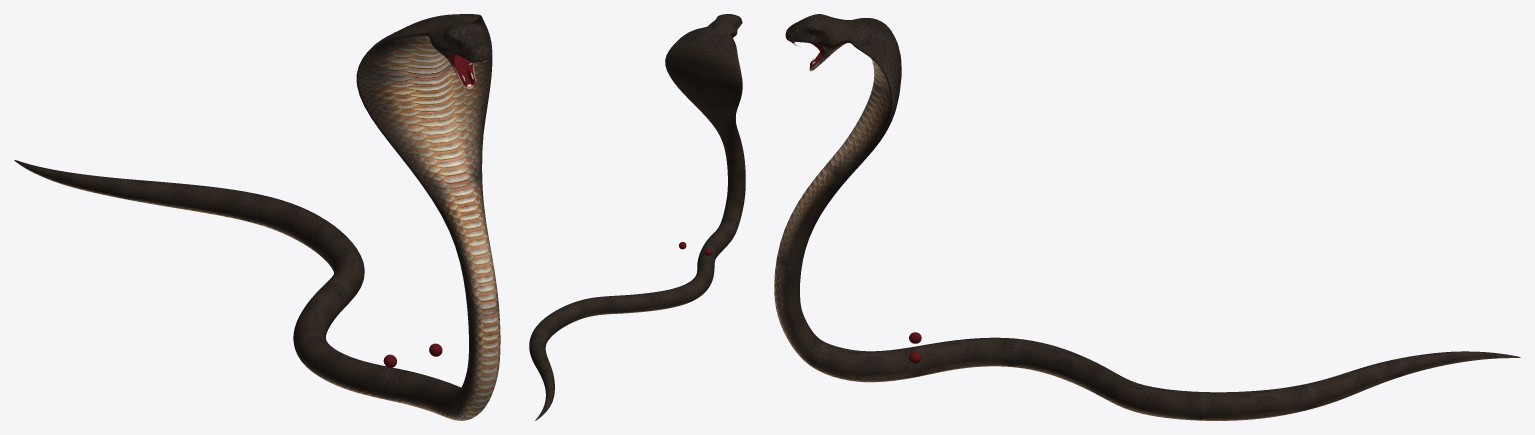
File: Snake.obj
3 views of the same model, side by side, from view 1: azimuth 30°, elevation 25°; view 2: azimuth 150°, elevation 25°; view 3: azimuth 270°, elevation 25° (orthographic). The views are drawn at different scales.
Size of the model in its own units: 2.97 by 7.1 by 13.15.
Materials: 4 (1 with a texture image).
